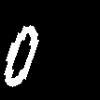chain: (4, 25, 38, 86)
